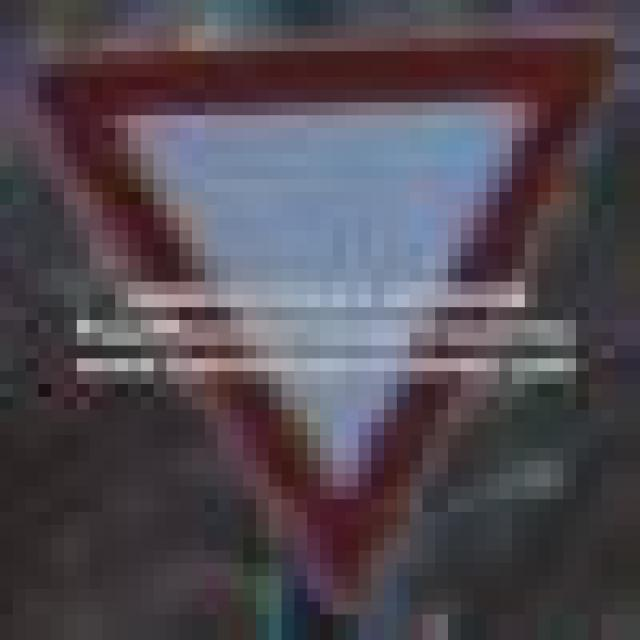GIVE_WAY: (26, 26, 588, 602)
